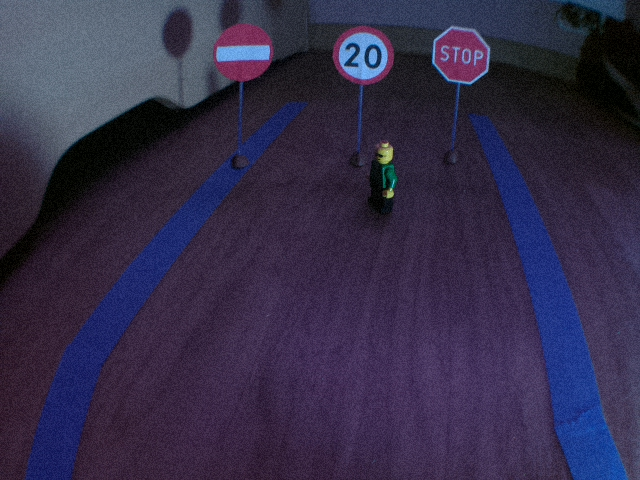LEGO_person: (365, 138, 401, 219)
ogr_20: (330, 24, 397, 87)
stop: (430, 24, 492, 85)
zakaz: (212, 21, 275, 83)
